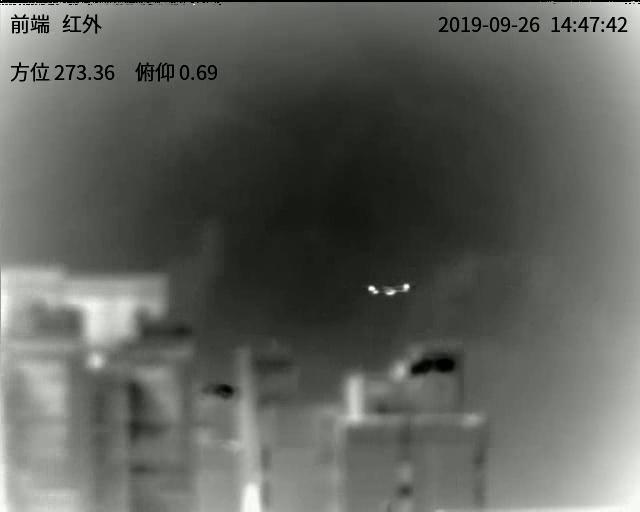DRONE: (367, 281, 411, 296)
